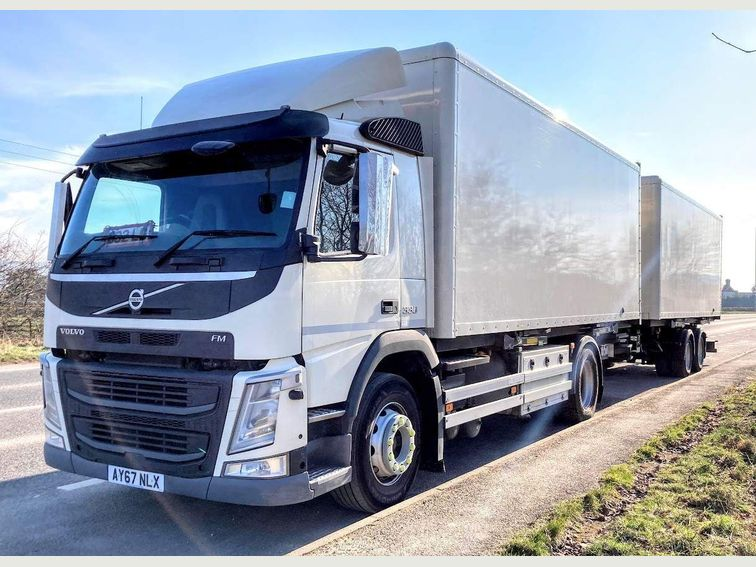Semi: (38, 41, 722, 514)
